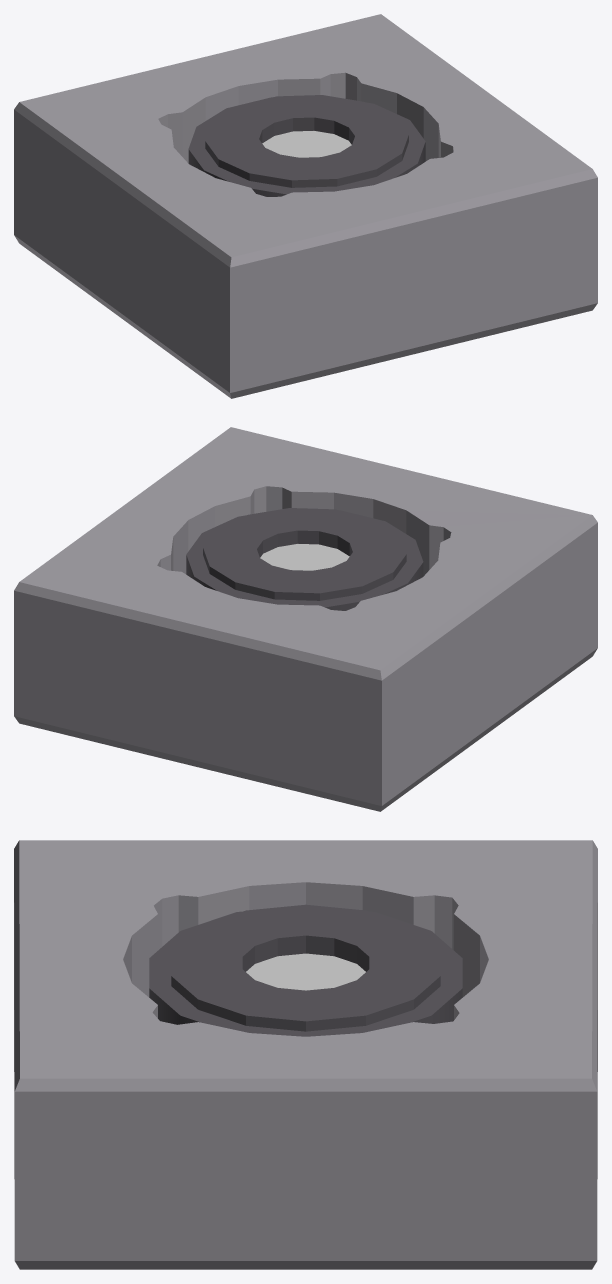
The model's file is Lense module.fbx.
3 views of the same model, one above another, from view 1: azimuth 30°, elevation 25°; view 2: azimuth 150°, elevation 25°; view 3: azimuth 270°, elevation 25° (orthographic). The views are drawn at different scales.
Parts seen in each view (by area): view 1: lense_module; view 2: lense_module; view 3: lense_module.
Boxes of the visible parts, left/top/right/bottom form: lense_module: left=14, top=14, right=597, bottom=398; lense_module: left=14, top=427, right=597, bottom=811; lense_module: left=14, top=840, right=597, bottom=1269.
Size of the model in its own units: 0.9936 by 0.3651 by 1.01.
